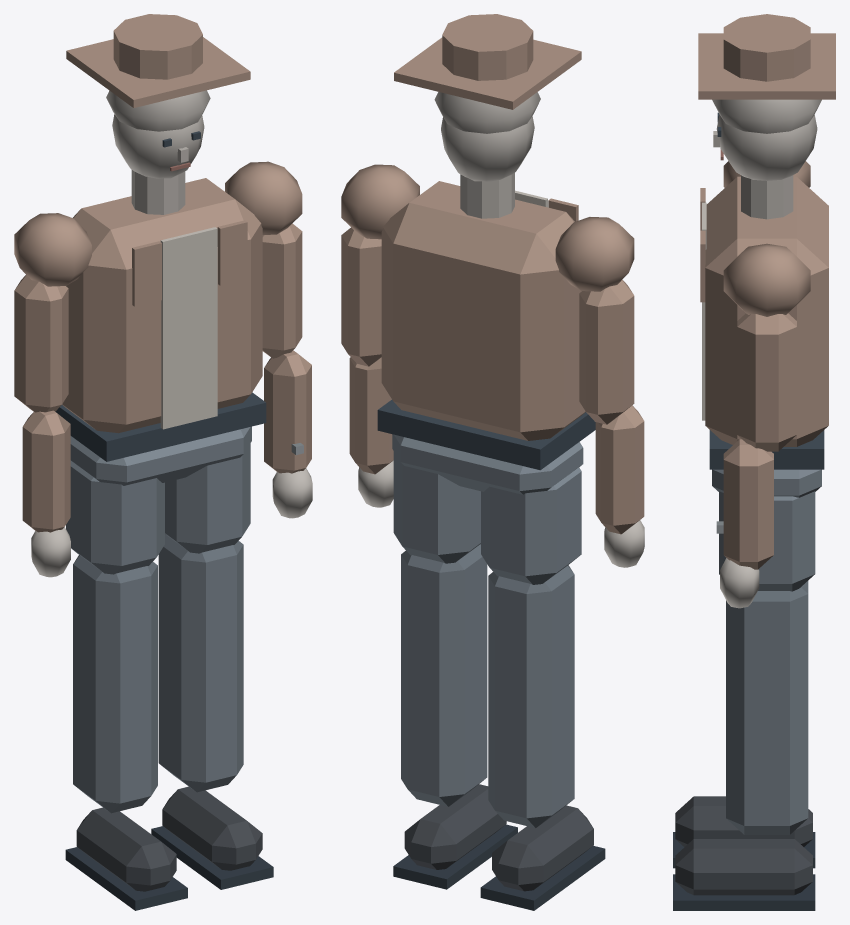
The model's file is personaje_informant.glb.
3 renders of one model, left to right at view 1: azimuth 30°, elevation 25°; view 2: azimuth 150°, elevation 25°; view 3: azimuth 270°, elevation 25°, orthographic.
Bounding box in the file's own units: 0.72 × 2.03 × 0.355.
